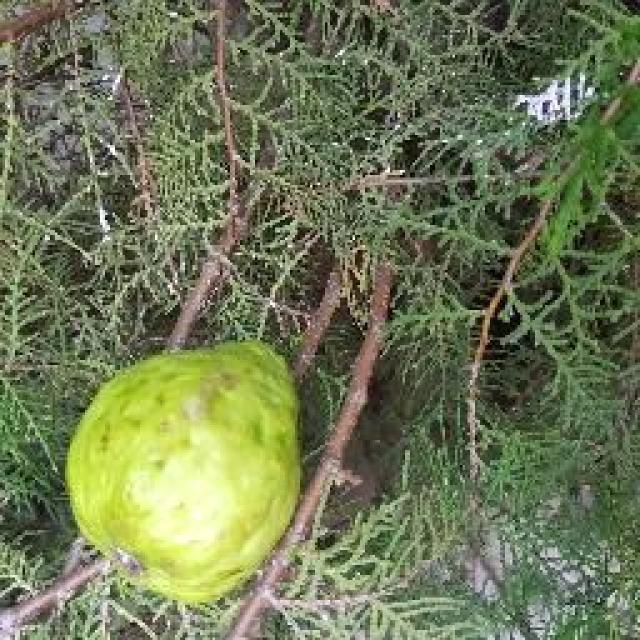Good_Guava: (62, 342, 302, 608)
